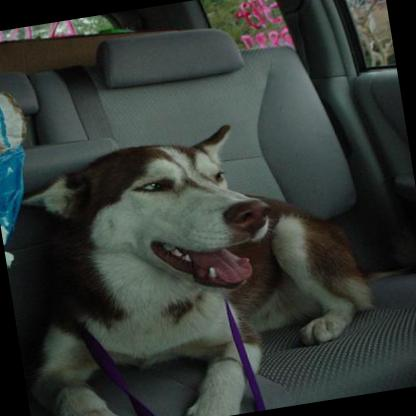Eskimo_dog: (0, 105, 387, 416)
